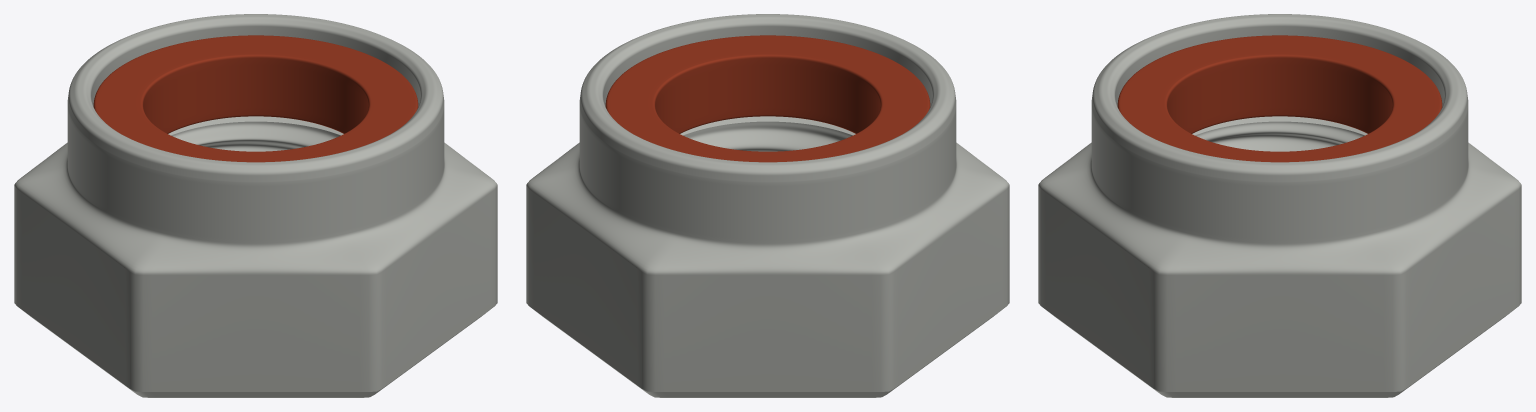
Rendered from child-candidate.glb.
The picture shows the model from 3 angles, left to right: view 1: azimuth 30°, elevation 25°; view 2: azimuth 150°, elevation 25°; view 3: azimuth 270°, elevation 25°; orthographic projection.
Parts seen in each view (by area): view 1: NYLOC_METALLIC_SIX_FLATS_ROLLED_COLLAR_INNER_HELIX, NYLOC_ORANGE_INSERT_REVIEW_SECTION; view 2: NYLOC_METALLIC_SIX_FLATS_ROLLED_COLLAR_INNER_HELIX, NYLOC_ORANGE_INSERT_REVIEW_SECTION; view 3: NYLOC_METALLIC_SIX_FLATS_ROLLED_COLLAR_INNER_HELIX, NYLOC_ORANGE_INSERT_REVIEW_SECTION.
Part boxes in pixels (x1,y1,x2,y2): NYLOC_METALLIC_SIX_FLATS_ROLLED_COLLAR_INNER_HELIX: (14,14,497,397); NYLOC_ORANGE_INSERT_REVIEW_SECTION: (93,35,418,162); NYLOC_METALLIC_SIX_FLATS_ROLLED_COLLAR_INNER_HELIX: (526,14,1009,397); NYLOC_ORANGE_INSERT_REVIEW_SECTION: (605,35,930,162); NYLOC_METALLIC_SIX_FLATS_ROLLED_COLLAR_INNER_HELIX: (1038,14,1521,397); NYLOC_ORANGE_INSERT_REVIEW_SECTION: (1117,35,1442,162).
Bounding box in the file's own units: 0.017 × 0.01 × 0.0195.
